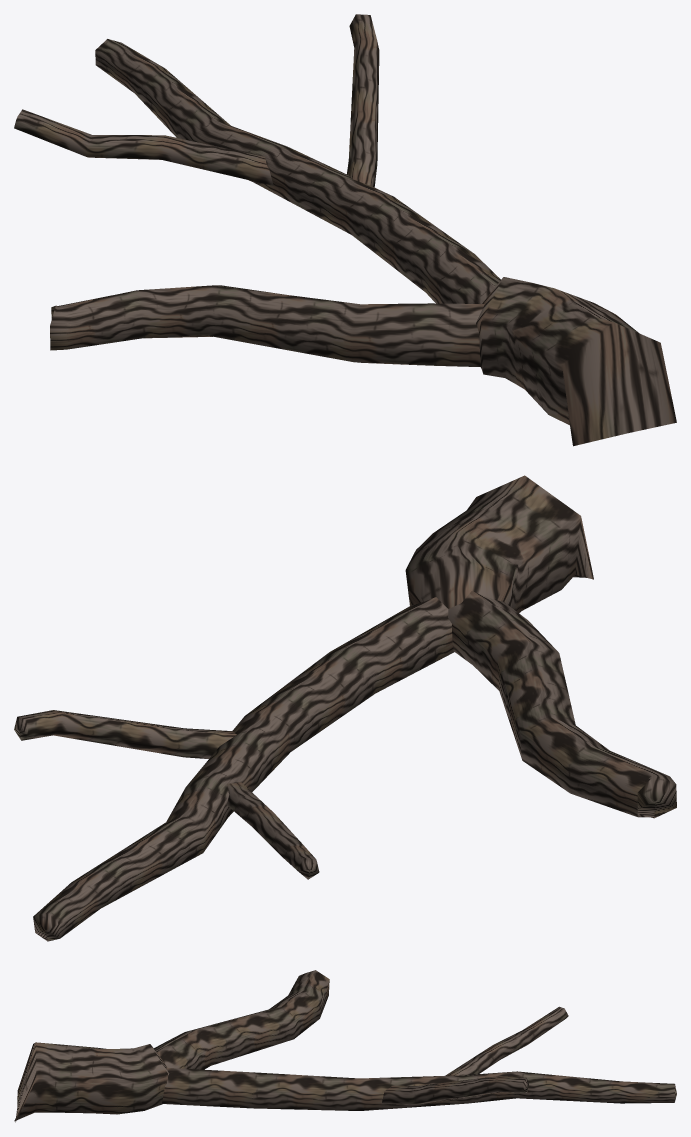
The model's file is fallen-a.lod1.glb.
3 renders of one model, top to bottom at view 1: azimuth 30°, elevation 25°; view 2: azimuth 150°, elevation 25°; view 3: azimuth 270°, elevation 25°, orthographic. The views are drawn at different scales.
Parts seen in each view (by area): view 1: bark; view 2: bark; view 3: bark.
Part boxes in pixels (left/top/right/bottom): bark: left=14, top=14, right=676, bottom=446; bark: left=14, top=475, right=676, bottom=941; bark: left=14, top=970, right=676, bottom=1122.
Bounding box in the file's own units: 3.02 × 0.6115 × 5.42.
1 material, 1 textured.
